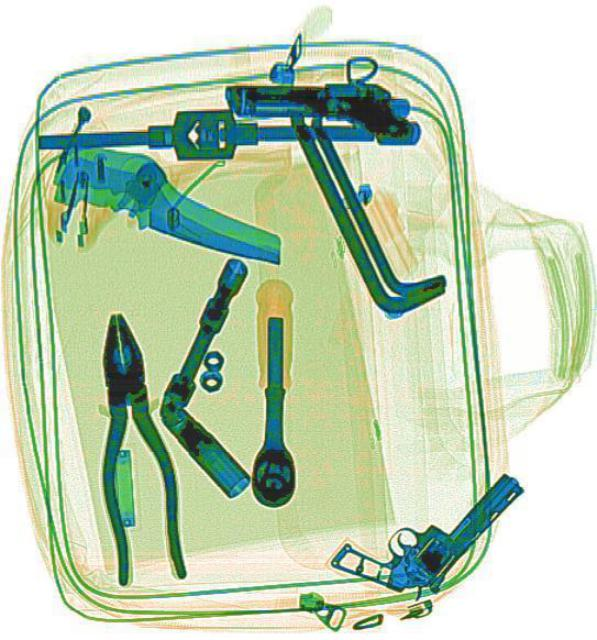Gun: (324, 426, 525, 624), (223, 79, 420, 147)
Pliers: (78, 304, 187, 584)
